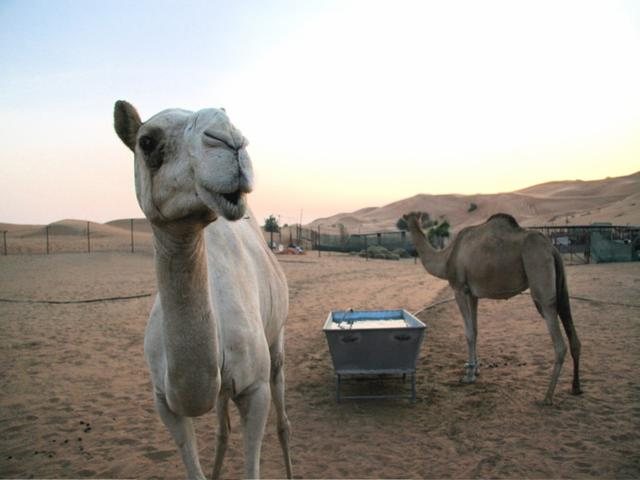camel: (78, 74, 311, 480), (375, 194, 601, 420)
